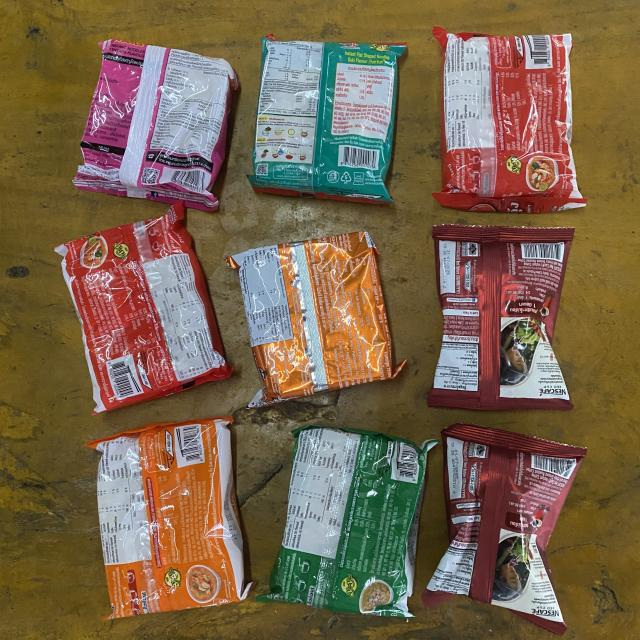plastik: (55, 202, 232, 414), (256, 425, 438, 618), (422, 424, 586, 635), (88, 418, 251, 619), (226, 231, 405, 408), (432, 26, 588, 212), (74, 40, 239, 211), (428, 225, 574, 410), (247, 35, 405, 204)
